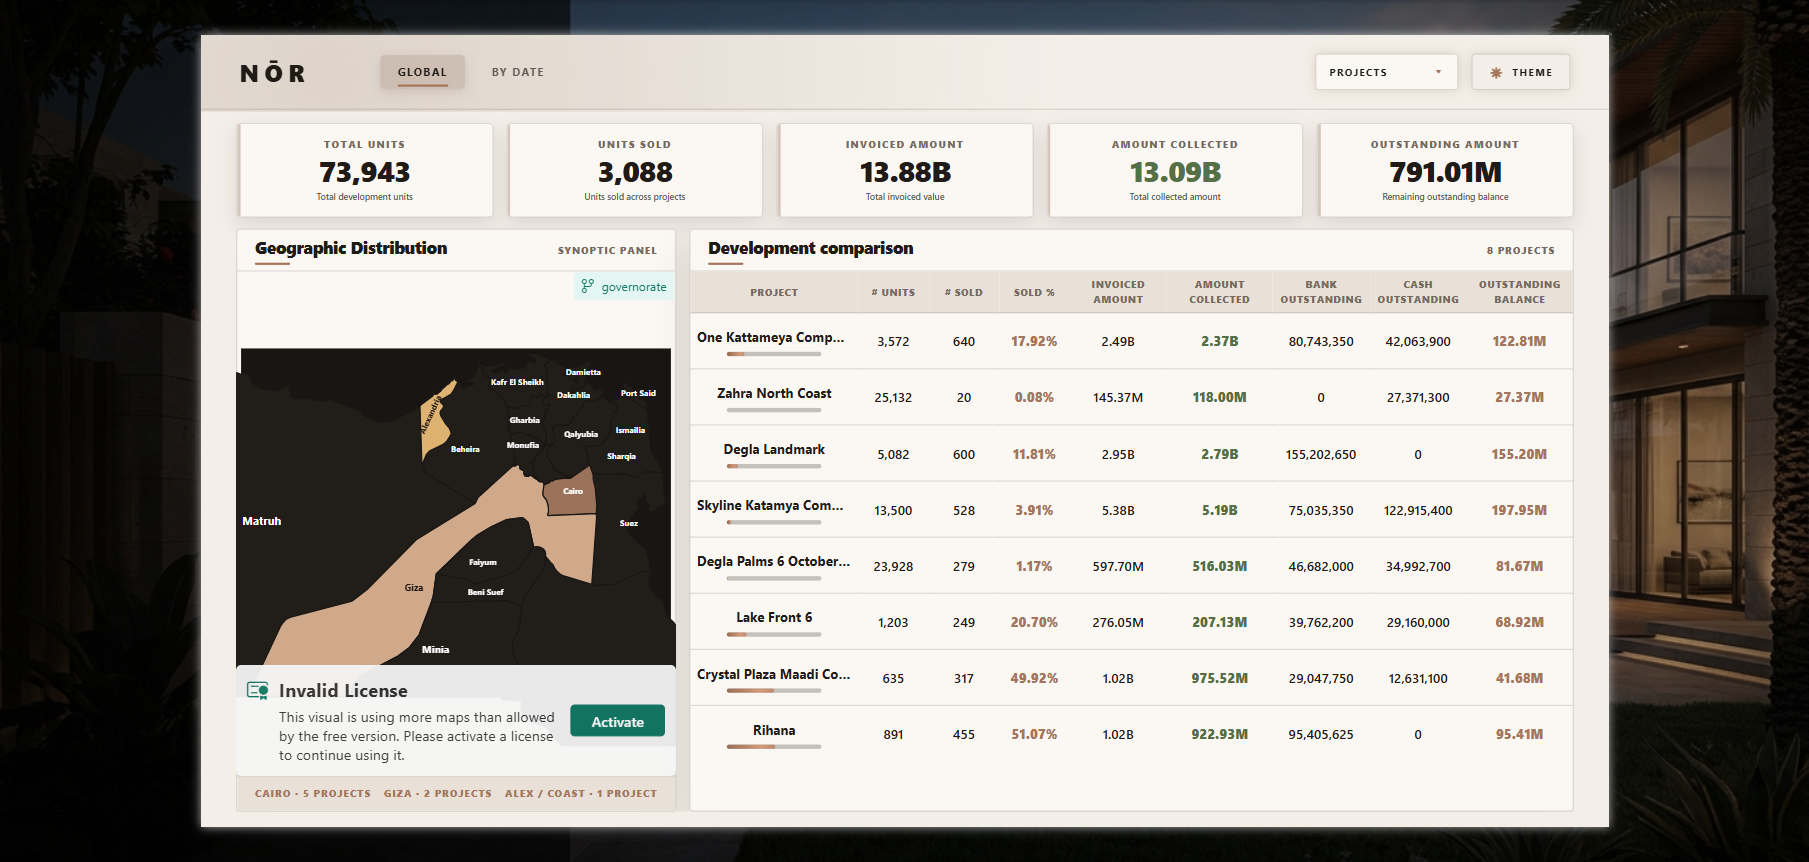

The dashboard page shown, as its layout file describes it:
{"tool":"powerbi","page":{"name":"Global Summary","canvas":[1280,720],"ordinal":1},"visuals":[{"type":"htmlContent443BE3AD55E043BF878BED274D3A6855","fields":{"content":["HTML Visuals.HTML_Global_Summary"]},"box":[0,0,1280,720],"z":0}]}

Visuals, with their boxes on the page's 1280x720 design canvas (x1, y1, x2, y2). These are canvas units, not pixel positions in the 1809x862 screenshot, which may show the page scaled, cropped or inside an application window:
htmlContent443BE3AD55E043BF878BED274D3A6855 - HTML Visuals.HTML_Global_Summary: bbox=[0, 0, 1280, 720]
